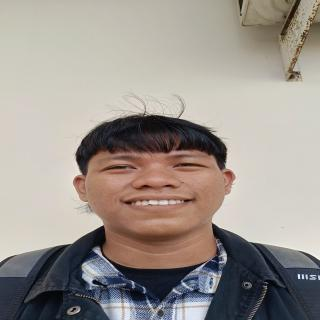Senang: (79, 138, 232, 243)
